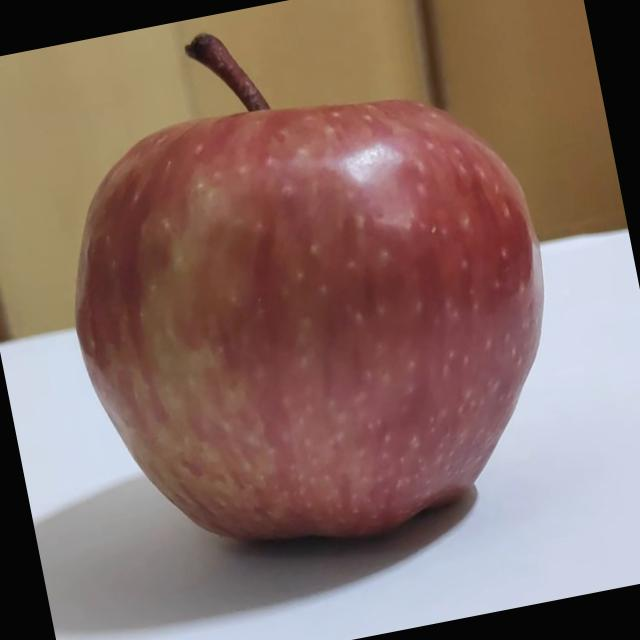apple: (22, 0, 595, 593)
